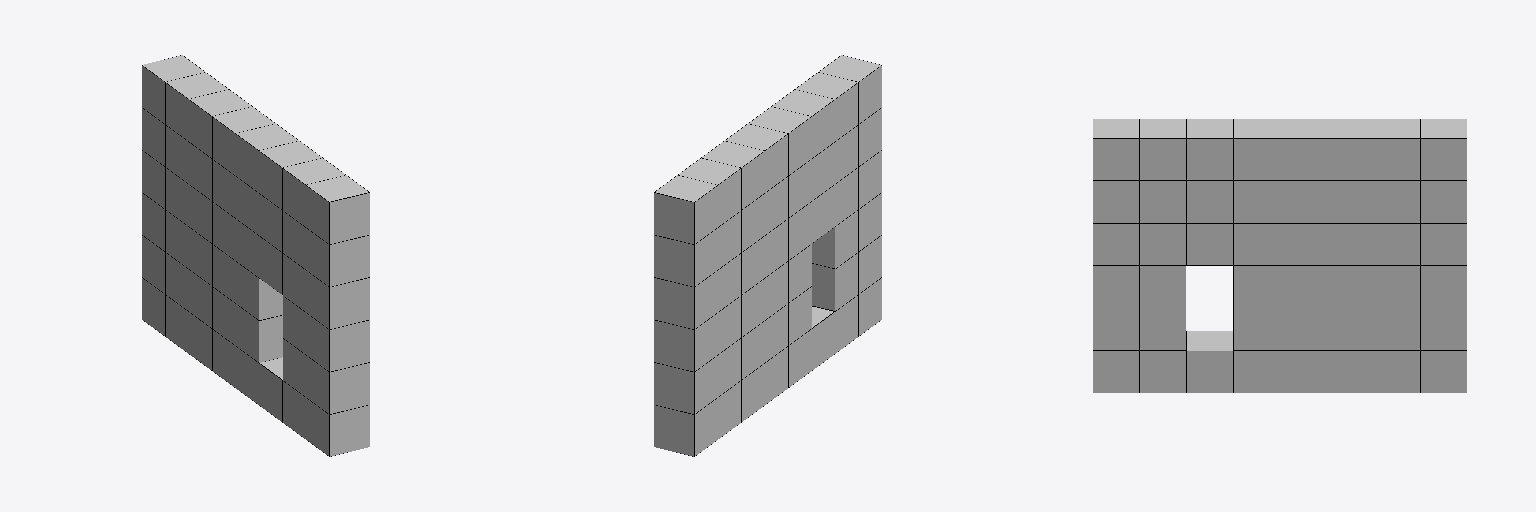
3 renders of one model, left to right at view 1: azimuth 30°, elevation 25°; view 2: azimuth 150°, elevation 25°; view 3: azimuth 270°, elevation 25°, orthographic.
Parts seen in each view (by area): view 1: wall_with_door_Cube.008; view 2: wall_with_door_Cube.008; view 3: wall_with_door_Cube.008.
Boxes of the visible parts, <box> form: wall_with_door_Cube.008: <box>142,55,369,456</box>; wall_with_door_Cube.008: <box>654,55,881,456</box>; wall_with_door_Cube.008: <box>1093,119,1466,392</box>.
Bounding box in the file's own units: 2 × 12 × 16.
Materials: 1 (1 with a texture image).